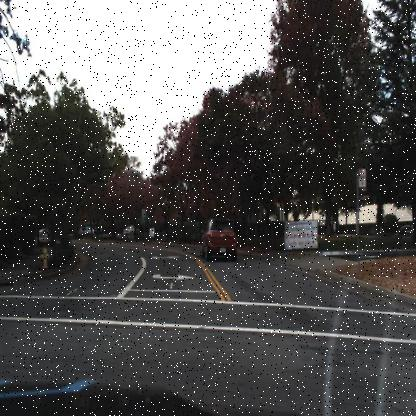car: (200, 219, 240, 265), (78, 224, 96, 241), (123, 226, 141, 240)
